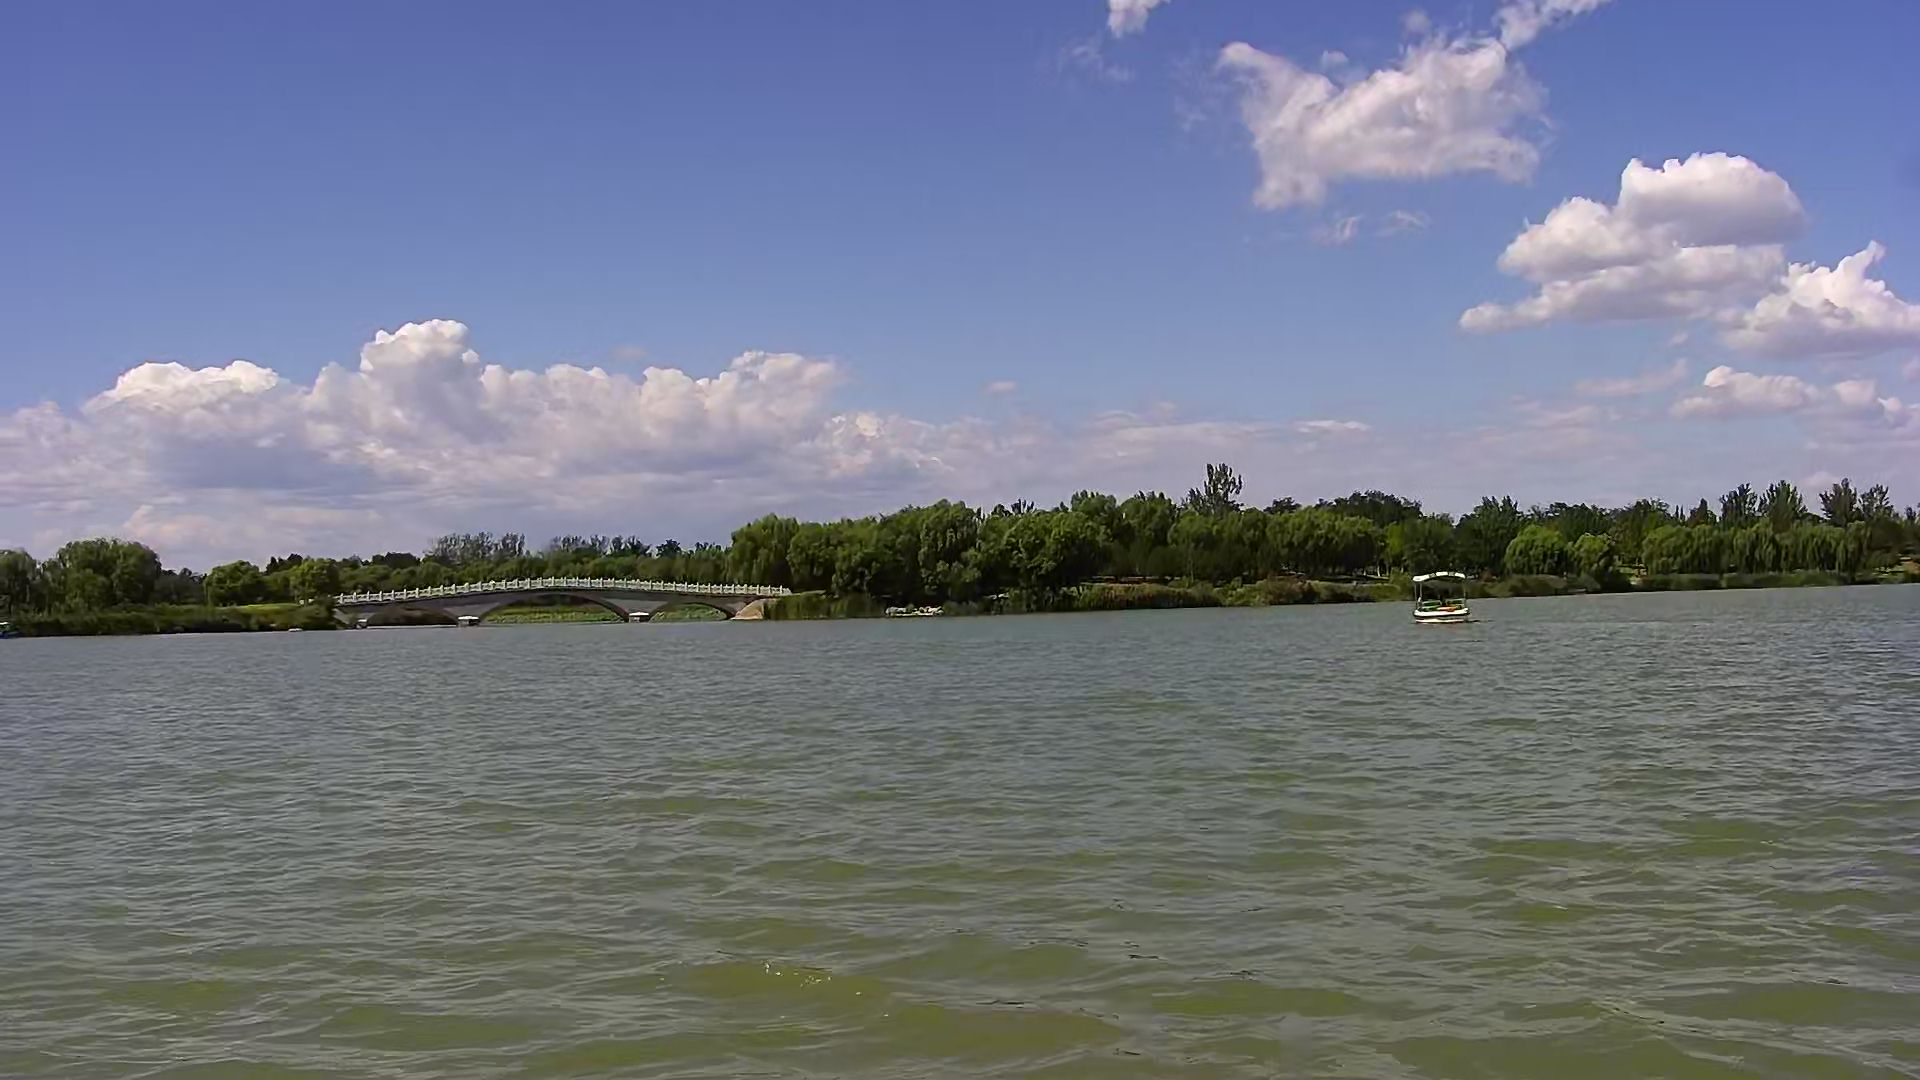boat: (1412, 568, 1470, 626)
bridge: (356, 578, 760, 622)
